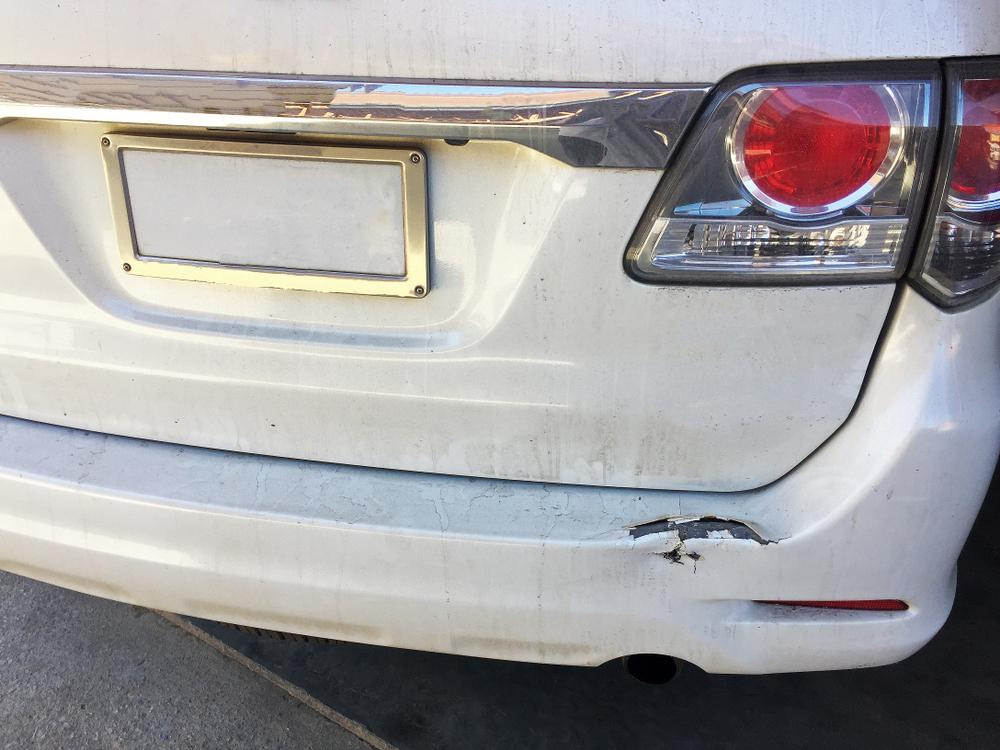scratch: (627, 509, 791, 568)
